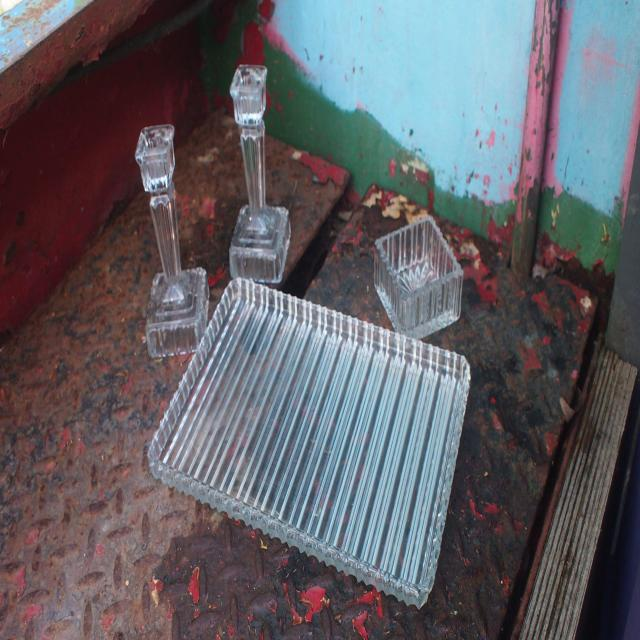non-organic waste: (130, 118, 214, 362), (370, 207, 467, 338)
